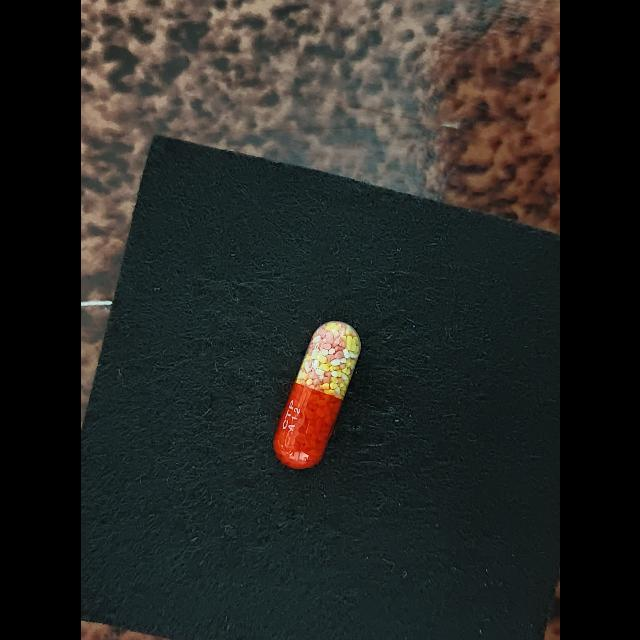Intact Capsule: (273, 321, 361, 469)
